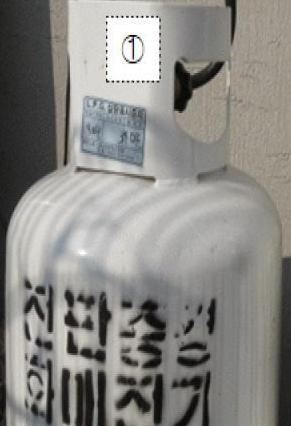cylinder: (1, 0, 291, 426)
